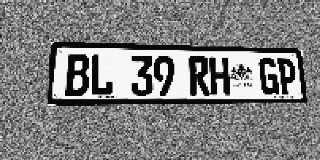3: (131, 55, 153, 96)
9: (153, 56, 175, 96)
B: (65, 54, 90, 96)
G: (259, 58, 279, 95)
H: (209, 57, 230, 95)
L: (90, 54, 113, 96)
P: (277, 58, 297, 95)
R: (189, 56, 210, 96)
